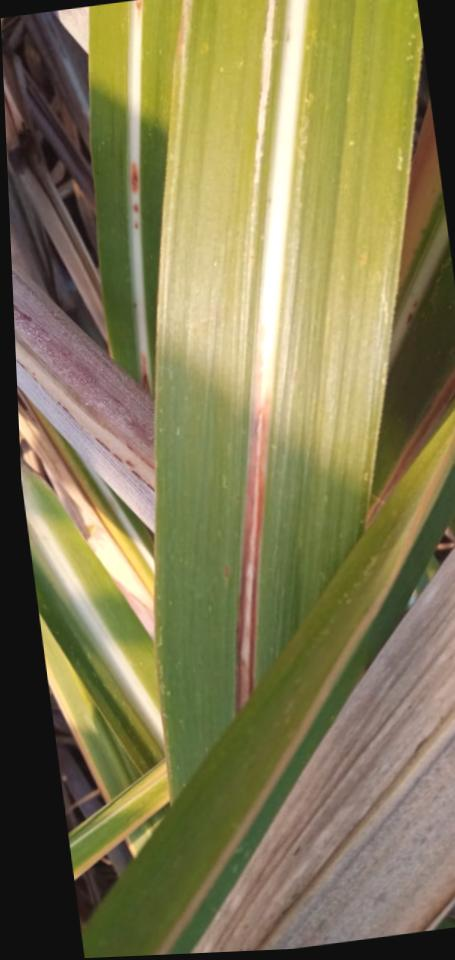RedRot: (236, 397, 273, 717), (129, 160, 139, 233), (138, 353, 151, 394)
